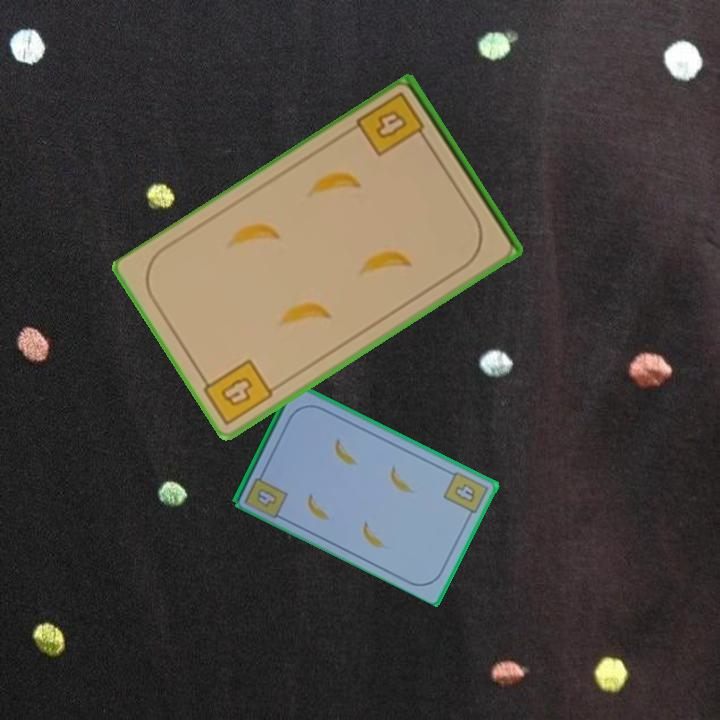4b: (196, 355, 276, 428), (353, 88, 432, 160), (440, 468, 491, 522), (253, 484, 280, 510)
